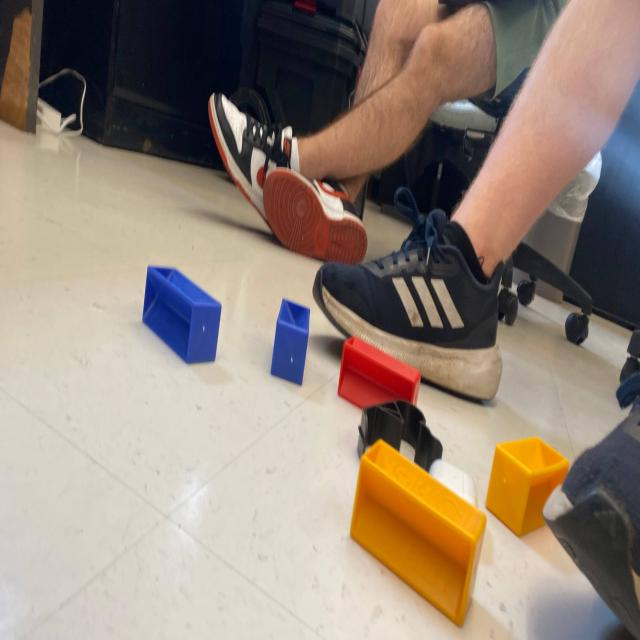blue-specimen: (141, 261, 222, 364), (270, 297, 310, 383)
red-specimen: (338, 336, 422, 415)
yellow-specimen: (351, 437, 486, 626), (486, 432, 571, 540)
